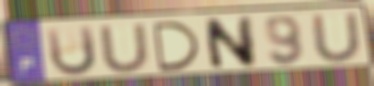9: (262, 13, 307, 68)
D: (150, 20, 204, 73)
N: (202, 15, 259, 72)
U: (43, 24, 100, 79), (96, 22, 153, 75), (308, 11, 365, 64)
